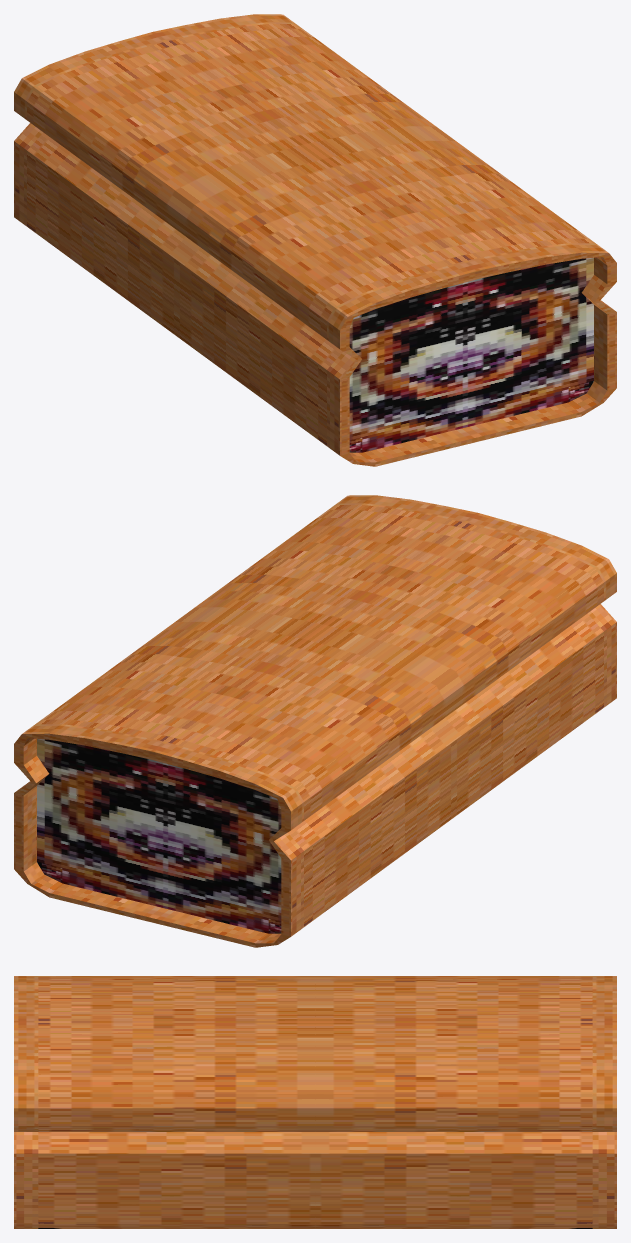
The model's file is spiral_bread.fbx.
3 renders of one model, top to bottom at view 1: azimuth 30°, elevation 25°; view 2: azimuth 150°, elevation 25°; view 3: azimuth 270°, elevation 25°, orthographic. The views are drawn at different scales.
Visible parts, largest first — view 1: Cube; view 2: Cube; view 3: Cube.
Part boxes in pixels (x1,y1,x2,y2): Cube: (14,14,616,466); Cube: (14,495,616,947); Cube: (14,976,616,1228).
Bounding box in the file's own units: 2.15 × 1.27 × 4.38.
